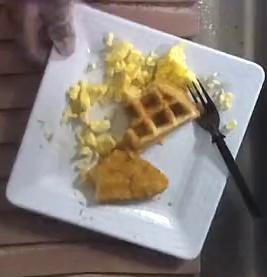hash: (87, 149, 168, 202)
scrambled_eggs: (68, 38, 195, 114), (77, 120, 116, 160)
waffle: (116, 82, 200, 151)
